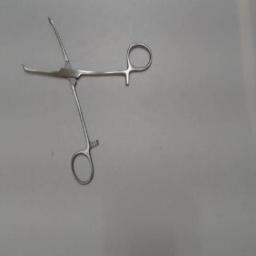Allis Tissue Forceps: (14, 10, 158, 190)
